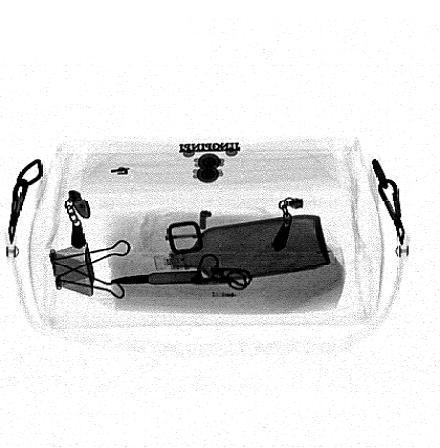Bullet: (107, 269, 204, 286)
